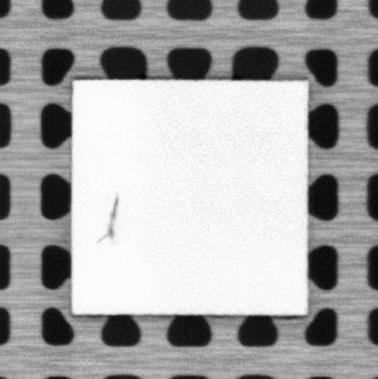DIE_INK: (97, 193, 118, 243)
